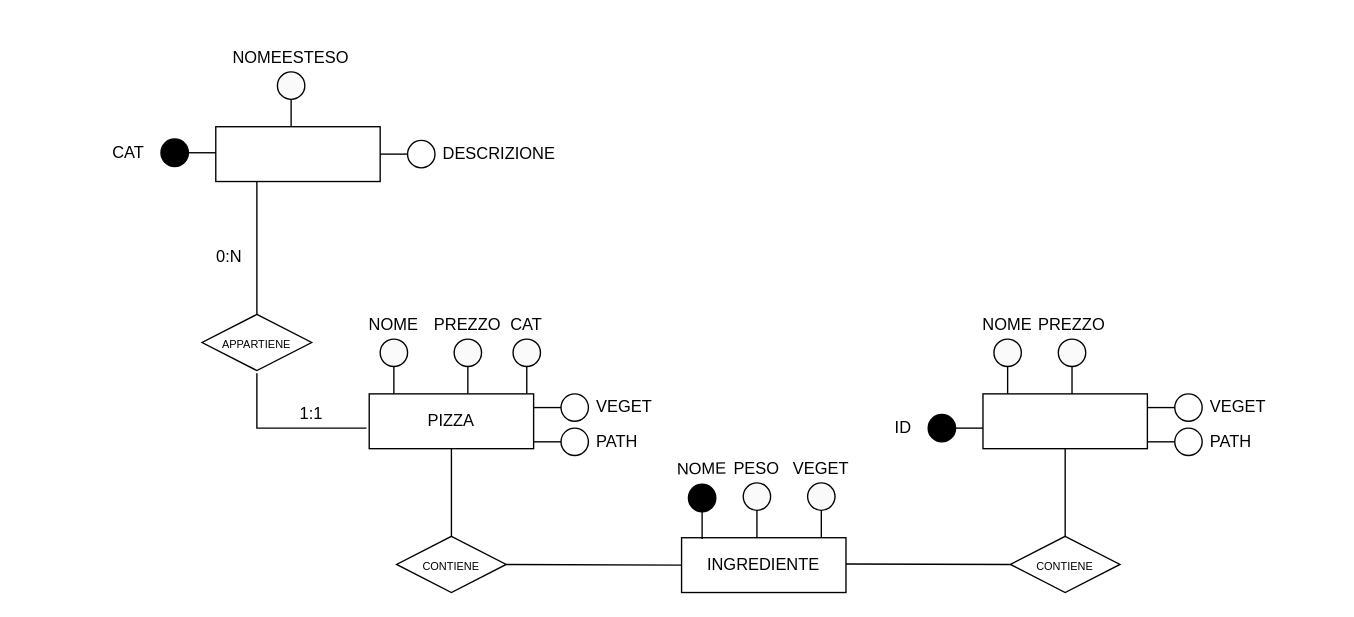
Some shapes in this 1354 by 617 pixel diagram are drawn without their labels. Each missing label, with the centre of its shape:
"CATEGORIA" goes at [297,153].
"CUCINA" goes at [1064,421].
